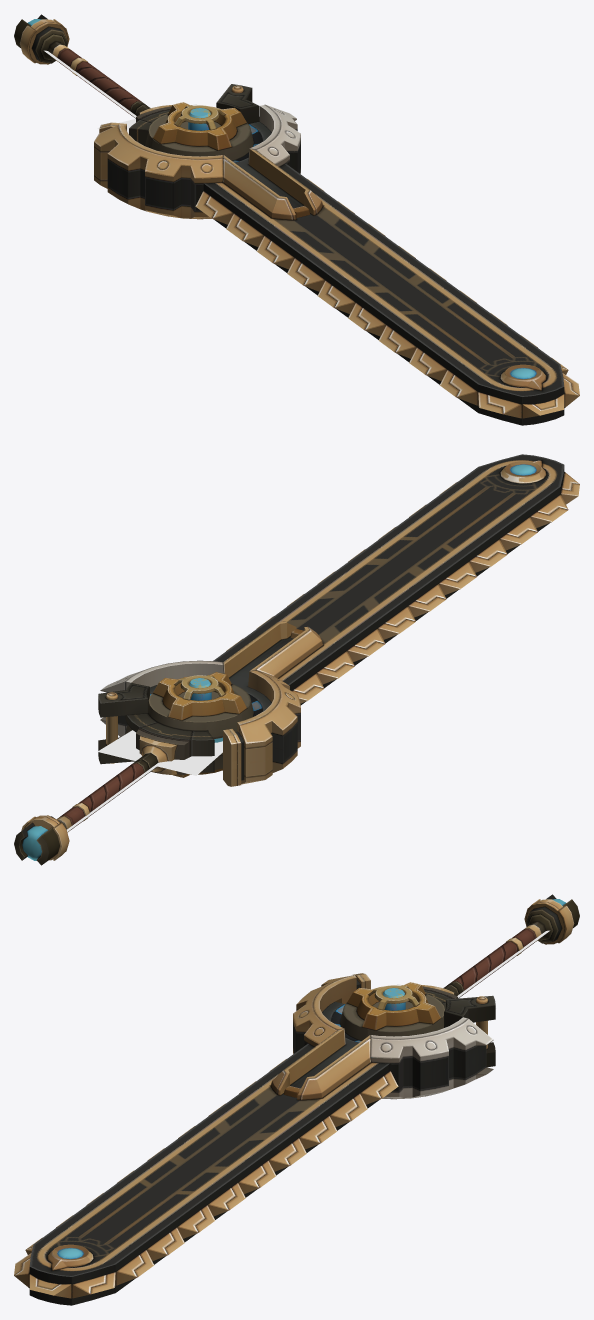
File: Equip_Claymore_Mechanic.fbx
3 views of the same model, one above another, from view 1: azimuth 30°, elevation 25°; view 2: azimuth 150°, elevation 25°; view 3: azimuth 330°, elevation 25° (orthographic).
Visible parts, largest first — view 1: Equip_Claymore_Mechanic_Model; view 2: Equip_Claymore_Mechanic_Model, Equip_Claymore_EffectMesh; view 3: Equip_Claymore_Mechanic_Model.
Part boxes in pixels (<box>): Equip_Claymore_Mechanic_Model: <box>14,14,579,425</box>; Equip_Claymore_Mechanic_Model: <box>14,454,579,865</box>; Equip_Claymore_EffectMesh: <box>67,730,222,831</box>; Equip_Claymore_Mechanic_Model: <box>14,894,579,1305</box>.
Bounding box in the file's own units: 0.3499 × 0.1571 × 1.73.
2 materials, 1 textured.
